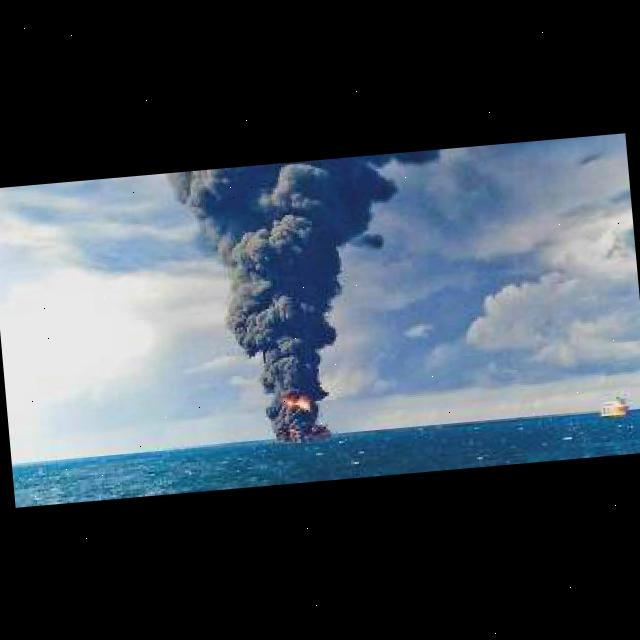fire: (182, 152, 360, 402), (280, 392, 310, 409), (598, 404, 626, 414)
